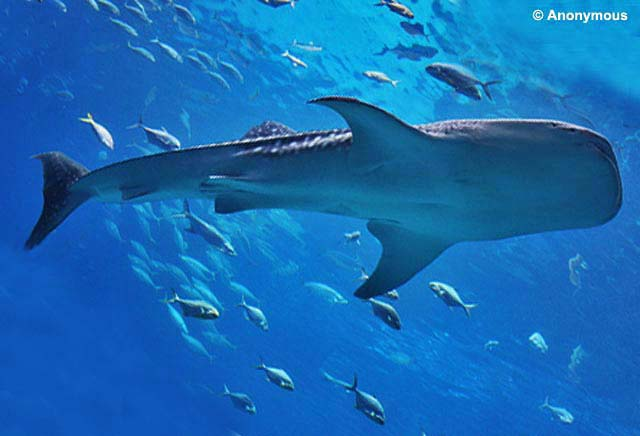Rhincodon_typusw: (17, 91, 637, 316)
